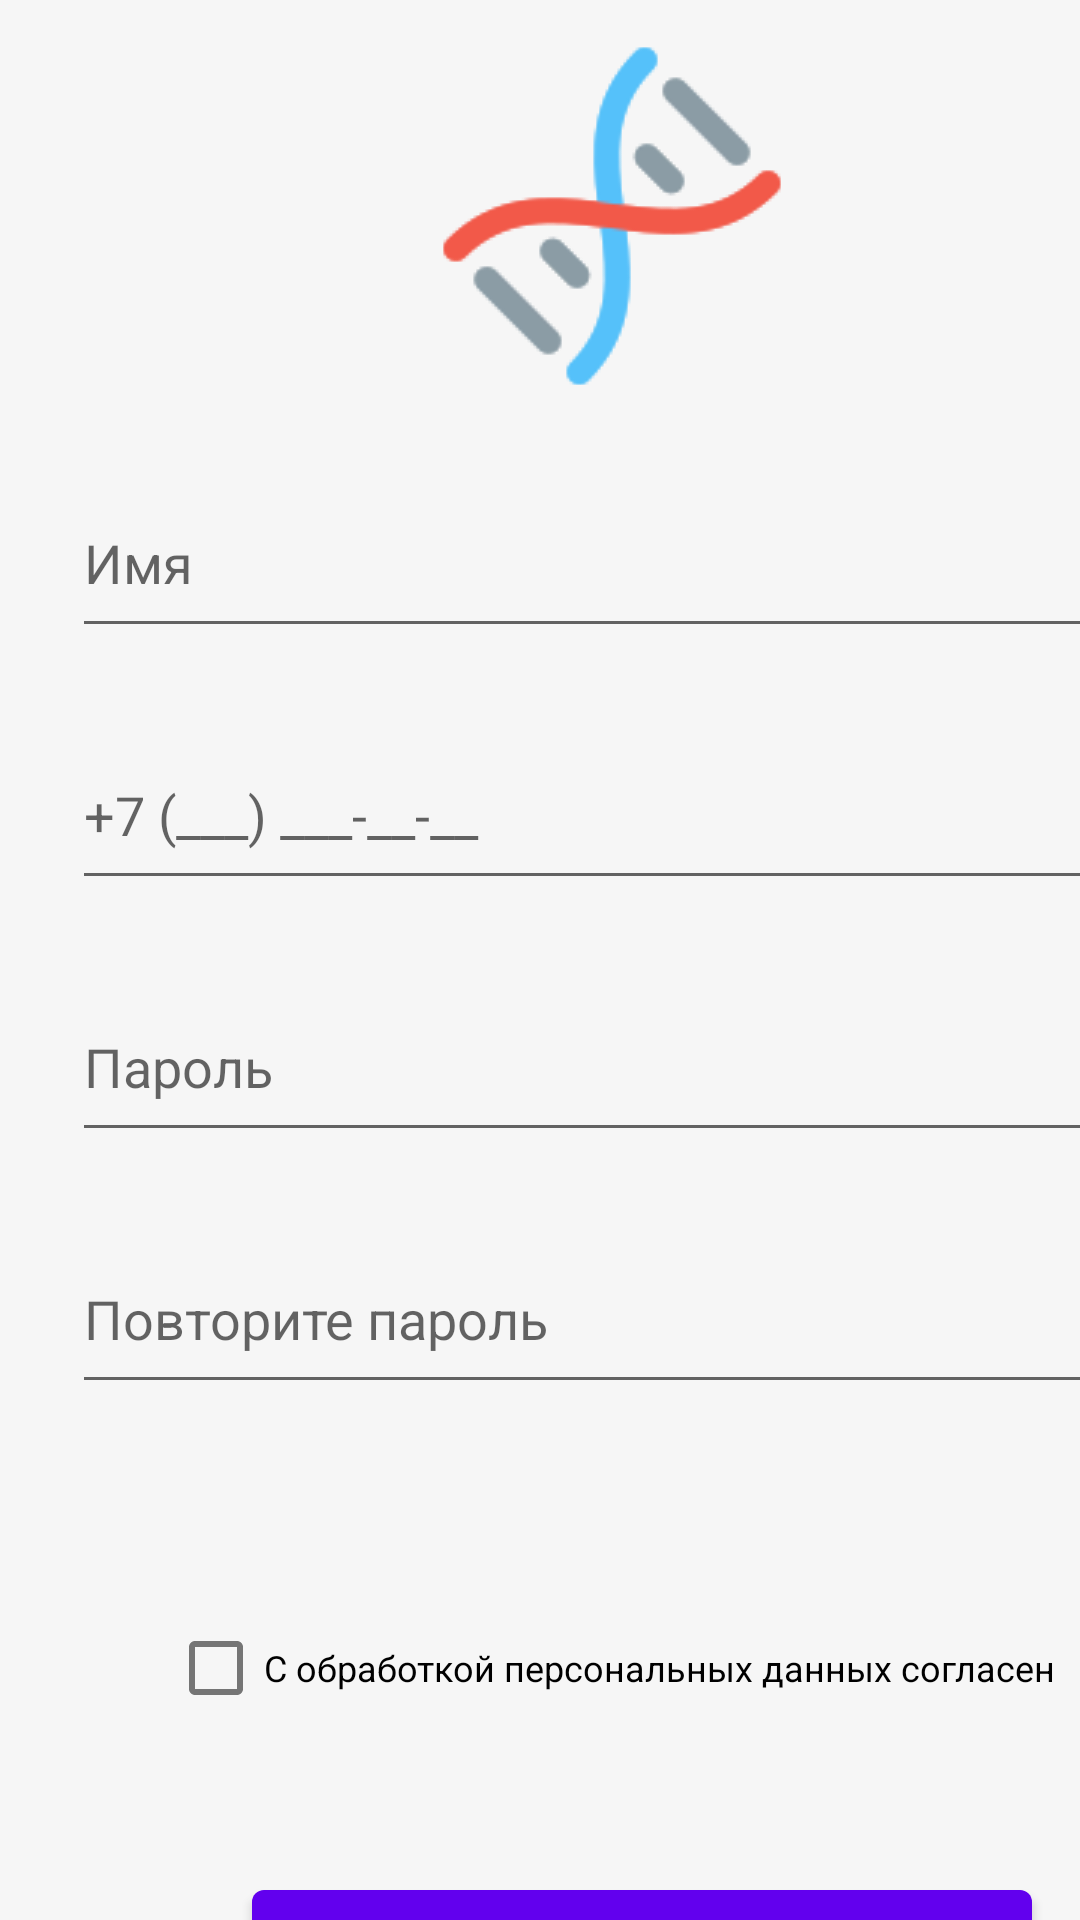

Point at icon controls on the screen. Image size 1080px x 1920px, points as [x,y].
dna: [612,216]
